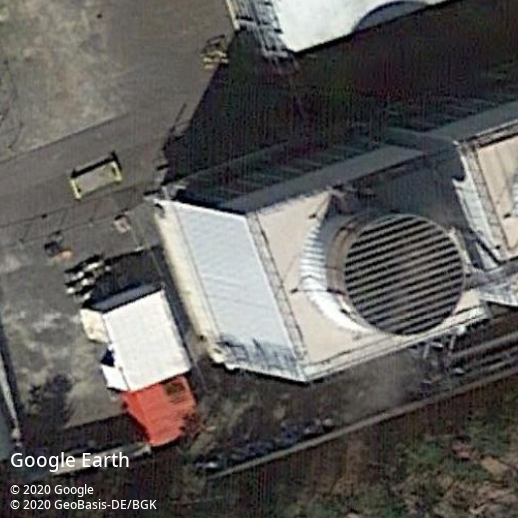Vent: (344, 214, 466, 337)
